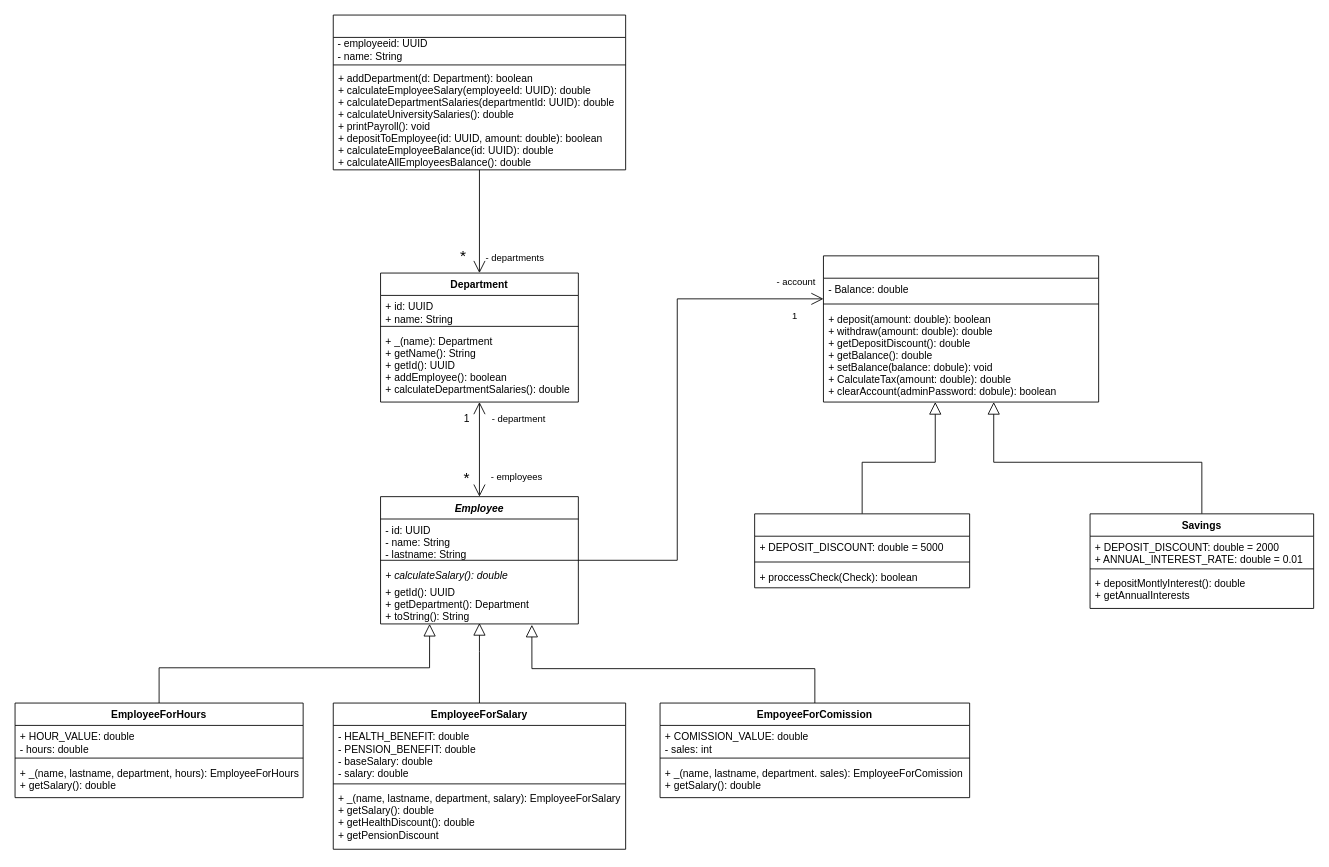
The diagram is 1329 pixels wide and 867 high, and some of its shapes have lost their labels. The shapes that lost their labels are listed below. From the top down, each one's box as (x1, y1, x2, y2) in pixels, then its label:
(332, 14, 626, 170): SabanaPayroll
(823, 255, 1099, 402): BankAccount
(754, 513, 970, 588): Checking
